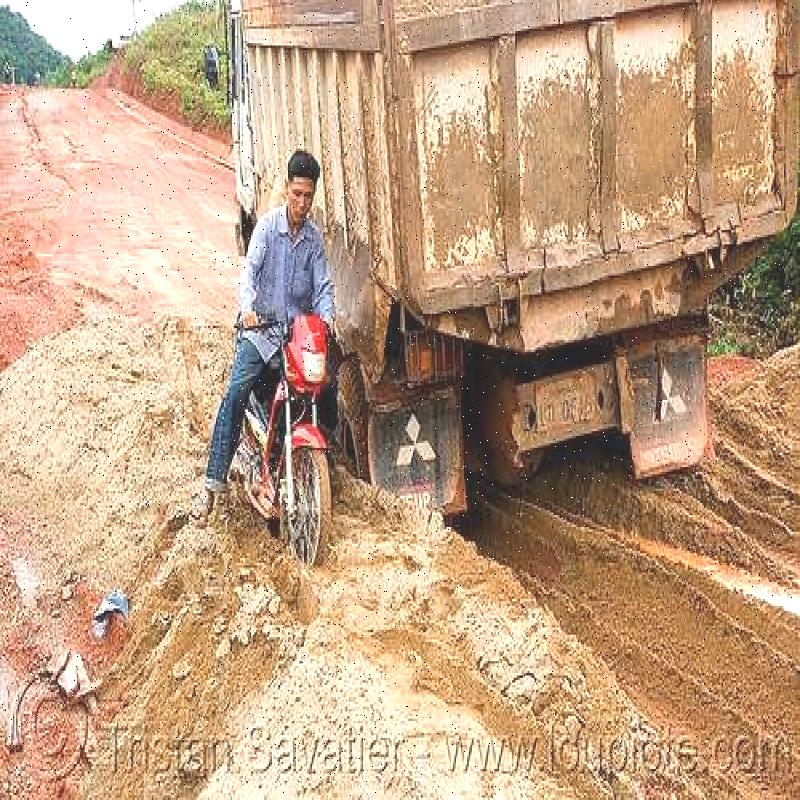bike: (279, 284, 349, 540)
